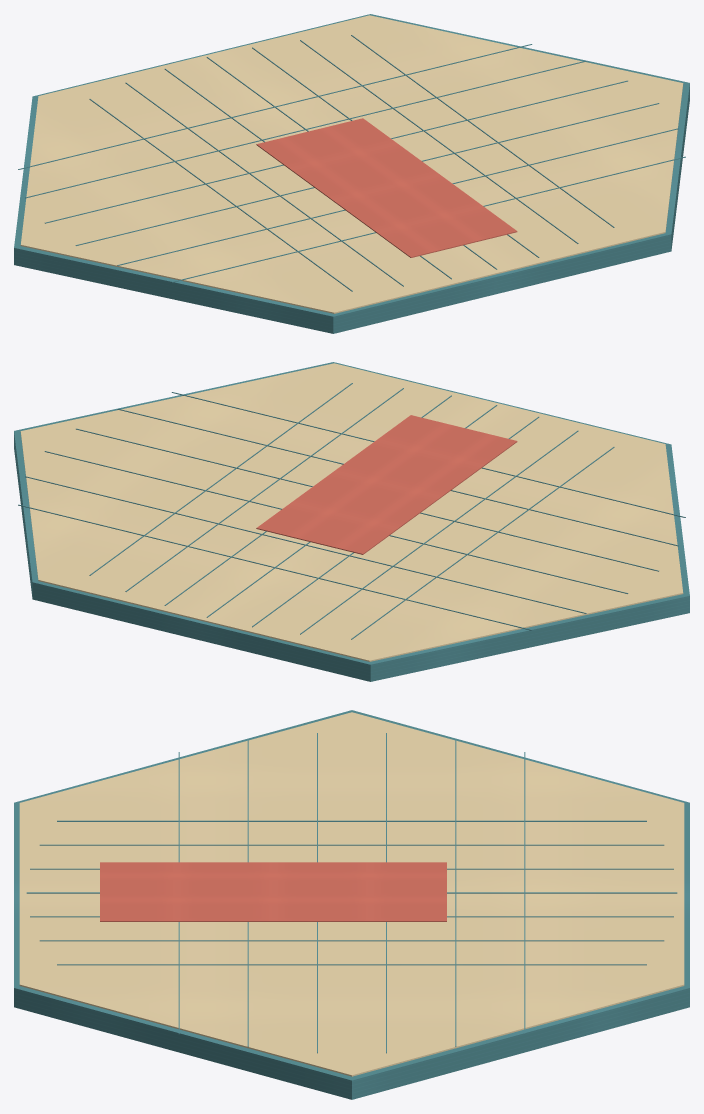
Rendered from atlas100-s071-a07.lod2.glb.
3 renders of one model, top to bottom at view 1: azimuth 30°, elevation 25°; view 2: azimuth 150°, elevation 25°; view 3: azimuth 270°, elevation 25°, orthographic. The views are drawn at different scales.
Visible parts, largest first — view 1: atlas100-s071-a07:part-001, atlas100-s071-a07:part-000, atlas100-s071-a07:part-021, atlas100-s071-a07:part-015, atlas100-s071-a07:part-014, atlas100-s071-a07:part-017, atlas100-s071-a07:part-016, atlas100-s071-a07:part-018, atlas100-s071-a07:part-019, atlas100-s071-a07:part-005, atlas100-s071-a07:part-009, atlas100-s071-a07:part-004 (+1 smaller); view 2: atlas100-s071-a07:part-001, atlas100-s071-a07:part-000, atlas100-s071-a07:part-021, atlas100-s071-a07:part-015, atlas100-s071-a07:part-014, atlas100-s071-a07:part-016, atlas100-s071-a07:part-017, atlas100-s071-a07:part-018, atlas100-s071-a07:part-019, atlas100-s071-a07:part-005, atlas100-s071-a07:part-009, atlas100-s071-a07:part-004 (+1 smaller); view 3: atlas100-s071-a07:part-001, atlas100-s071-a07:part-021, atlas100-s071-a07:part-000, atlas100-s071-a07:part-005, atlas100-s071-a07:part-009, atlas100-s071-a07:part-004, atlas100-s071-a07:part-010, atlas100-s071-a07:part-015, atlas100-s071-a07:part-007, atlas100-s071-a07:part-006, atlas100-s071-a07:part-008.
Boxes of the visible parts, <box> form: atlas100-s071-a07:part-001: <box>20,15,683,313</box>; atlas100-s071-a07:part-000: <box>14,14,689,333</box>; atlas100-s071-a07:part-021: <box>256,118,517,257</box>; atlas100-s071-a07:part-015: <box>25,60,586,198</box>; atlas100-s071-a07:part-014: <box>18,44,532,169</box>; atlas100-s071-a07:part-017: <box>75,103,659,245</box>; atlas100-s071-a07:part-016: <box>45,80,627,223</box>; atlas100-s071-a07:part-018: <box>117,128,678,265</box>; atlas100-s071-a07:part-019: <box>171,156,685,282</box>; atlas100-s071-a07:part-005: <box>125,82,403,286</box>; atlas100-s071-a07:part-009: <box>300,40,578,243</box>; atlas100-s071-a07:part-004: <box>89,99,352,291</box>; atlas100-s071-a07:part-001: <box>20,363,683,661</box>; atlas100-s071-a07:part-000: <box>14,362,689,681</box>; atlas100-s071-a07:part-021: <box>256,415,517,554</box>; atlas100-s071-a07:part-015: <box>25,476,586,613</box>; atlas100-s071-a07:part-014: <box>18,504,532,630</box>; atlas100-s071-a07:part-016: <box>44,451,628,593</box>; atlas100-s071-a07:part-017: <box>76,428,658,571</box>; atlas100-s071-a07:part-018: <box>117,408,678,546</box>; atlas100-s071-a07:part-019: <box>171,392,685,517</box>; atlas100-s071-a07:part-005: <box>300,430,578,634</box>; atlas100-s071-a07:part-009: <box>125,388,403,591</box>; atlas100-s071-a07:part-004: <box>351,447,614,639</box>; atlas100-s071-a07:part-001: <box>19,712,684,1076</box>; atlas100-s071-a07:part-021: <box>100,862,446,921</box>; atlas100-s071-a07:part-000: <box>14,710,689,1099</box>; atlas100-s071-a07:part-005: <box>39,844,664,845</box>; atlas100-s071-a07:part-009: <box>39,940,664,941</box>; atlas100-s071-a07:part-004: <box>57,820,646,821</box>; atlas100-s071-a07:part-010: <box>57,964,646,965</box>; atlas100-s071-a07:part-015: <box>455,739,456,1046</box>; atlas100-s071-a07:part-007: <box>26,892,677,893</box>; atlas100-s071-a07:part-006: <box>30,868,673,869</box>; atlas100-s071-a07:part-008: <box>30,916,673,917</box>.
Size of the model in its own units: 13.95 by 0.404 by 10.76.
3 materials, 3 textured.
